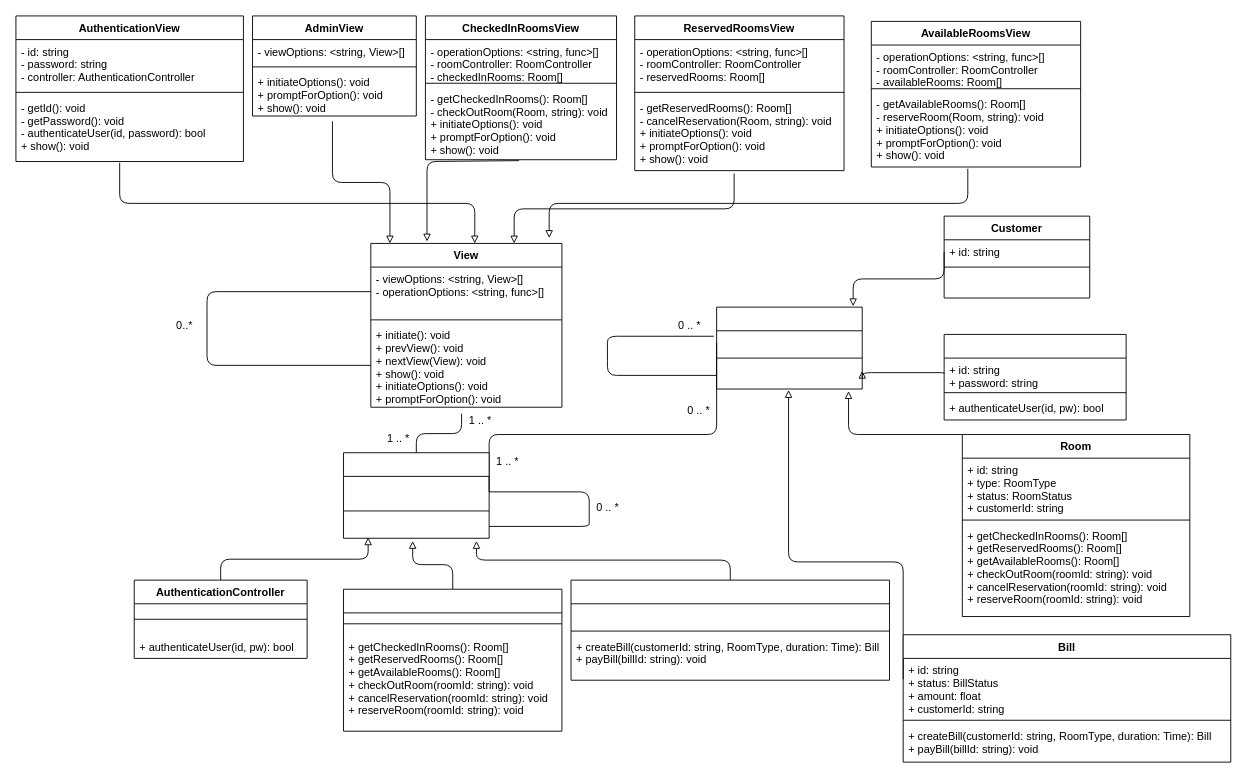
This 1247x781 diagram has some shape labels left out. The box of each missing label's shape, as (x1, y1, x2, y2) in pixels:
Admin: (943, 334, 1126, 420)
BillController: (570, 579, 890, 680)
Controller: (343, 452, 489, 538)
Model: (716, 306, 862, 389)
RoomController: (343, 588, 562, 731)
